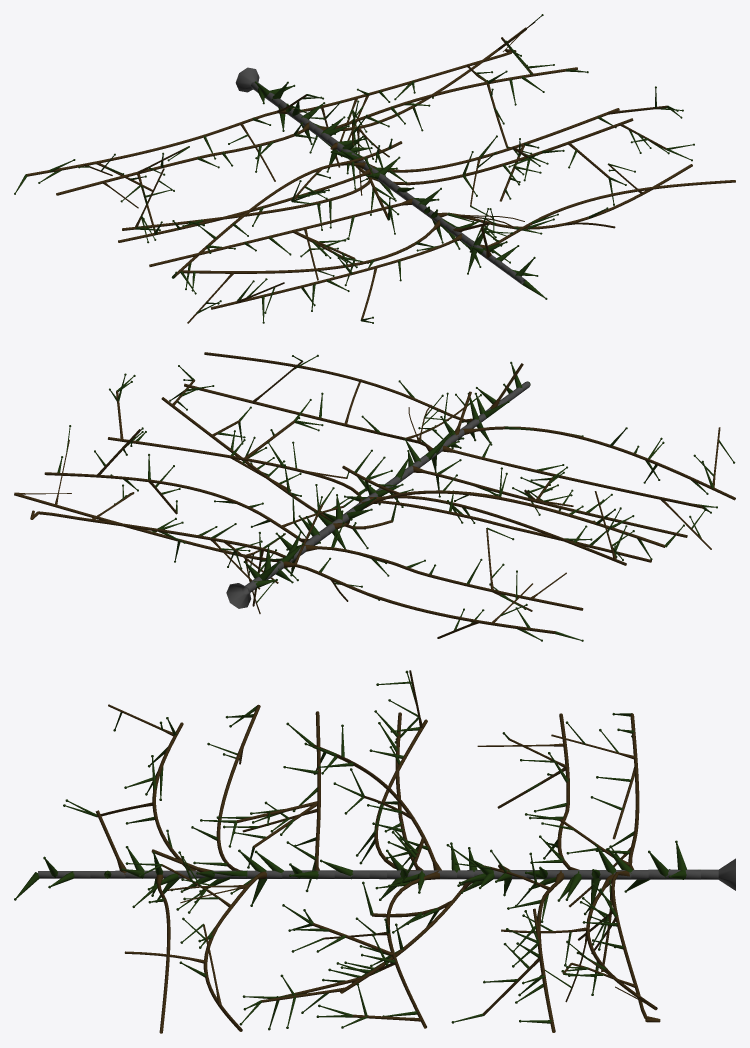
File: tree_10.obj
3 renders of one model, top to bottom at view 1: azimuth 30°, elevation 25°; view 2: azimuth 150°, elevation 25°; view 3: azimuth 270°, elevation 25°, orthographic. The views are drawn at different scales.
Bounding box in the file's own units: 4.69 × 1.09 × 4.14.
